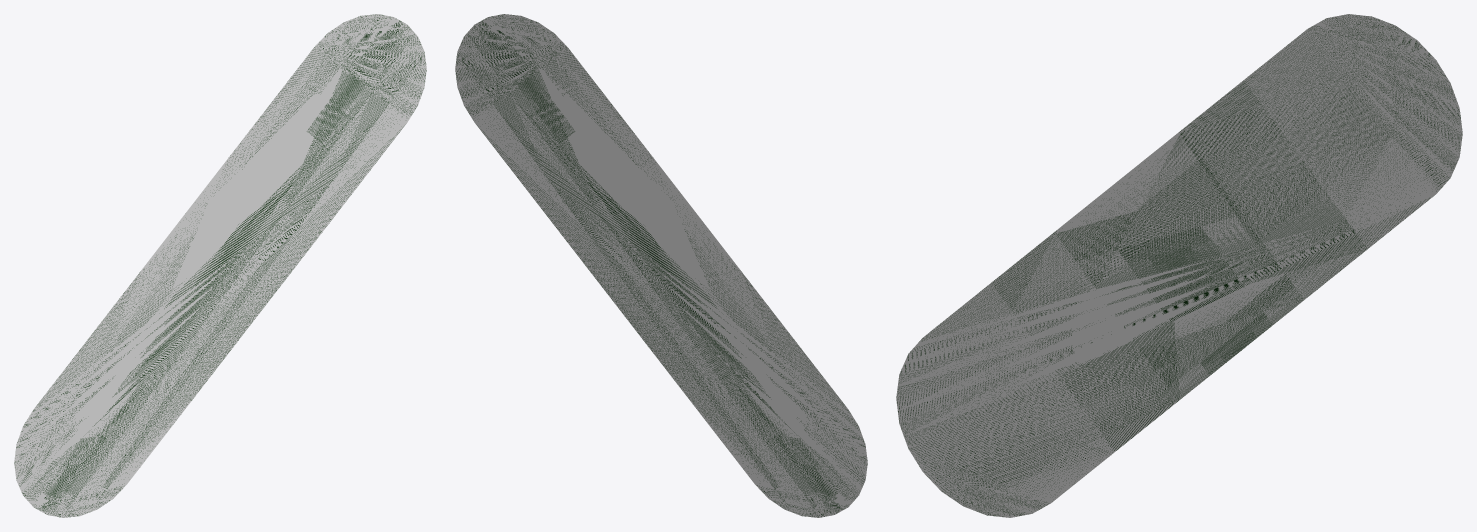
The model's file is original-25.obj.
3 renders of one model, left to right at view 1: azimuth 30°, elevation 25°; view 2: azimuth 150°, elevation 25°; view 3: azimuth 330°, elevation 25°, orthographic. The views are drawn at different scales.
Visible parts, largest first — view 1: 3dw.7bdffa69c49eb1d7bf653fdedcac4c5b#4/Model/mesh9/mesh9-geometr; view 2: 3dw.7bdffa69c49eb1d7bf653fdedcac4c5b#4/Model/mesh9/mesh9-geometr; view 3: 3dw.7bdffa69c49eb1d7bf653fdedcac4c5b#4/Model/mesh9/mesh9-geometr.
Boxes of the visible parts, x1,y1,x2,y2 form: 3dw.7bdffa69c49eb1d7bf653fdedcac4c5b#4/Model/mesh9/mesh9-geometr: (14, 14, 426, 517); 3dw.7bdffa69c49eb1d7bf653fdedcac4c5b#4/Model/mesh9/mesh9-geometr: (455, 14, 867, 517); 3dw.7bdffa69c49eb1d7bf653fdedcac4c5b#4/Model/mesh9/mesh9-geometr: (896, 14, 1462, 517).
Size of the model in its own units: 0.1357 by 0.1357 by 0.
